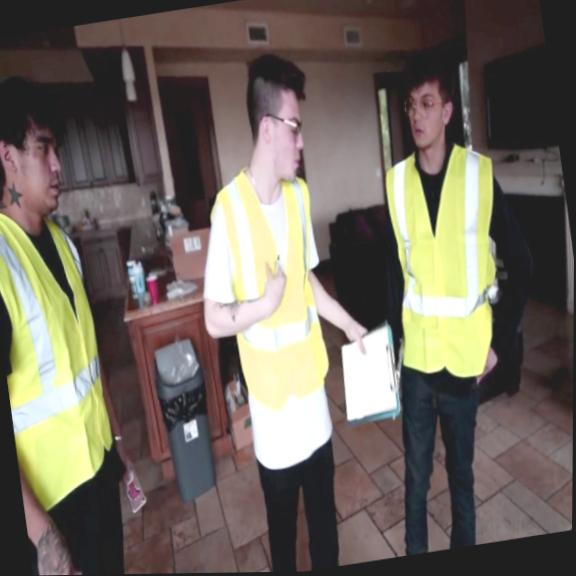safety_vest: (0, 198, 123, 515), (377, 136, 524, 386), (204, 158, 336, 415)
